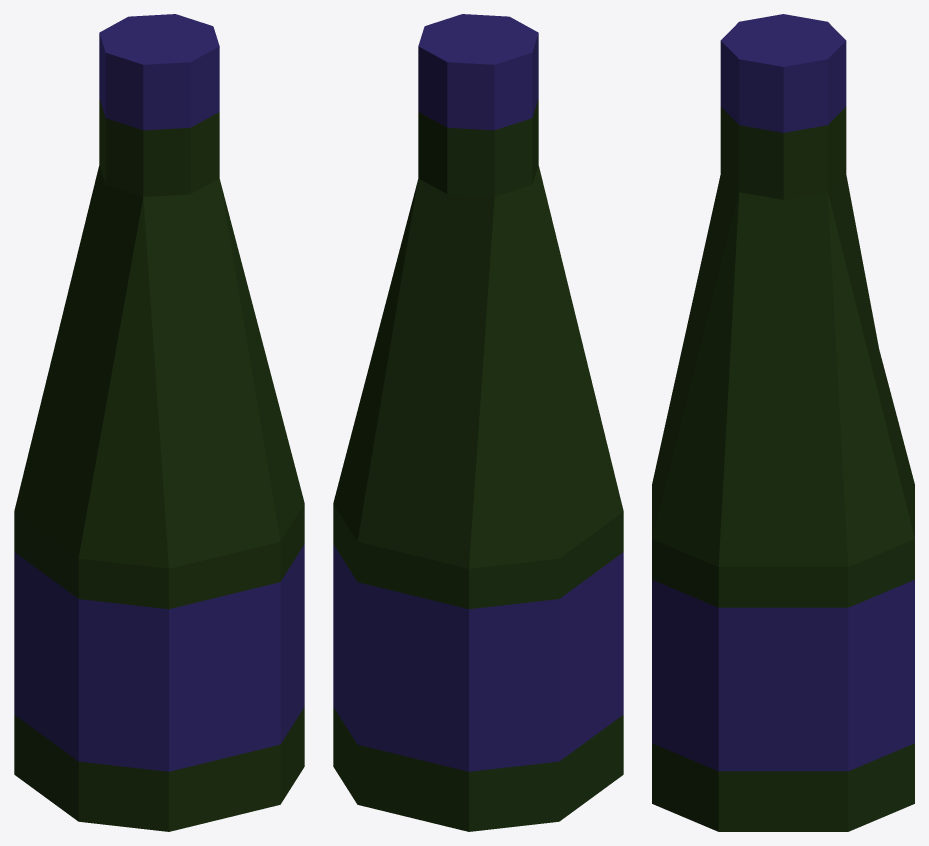
File: джек бухло (жижка зеленая).fbx
3 views of the same model, side by side, from view 1: azimuth 30°, elevation 25°; view 2: azimuth 150°, elevation 25°; view 3: azimuth 270°, elevation 25° (orthographic).
Visible parts, largest first — view 1: Куб; view 2: Куб; view 3: Куб.
Part boxes in pixels (bbox=[...]): Куб: bbox=[14, 14, 304, 831]; Куб: bbox=[333, 14, 623, 831]; Куб: bbox=[652, 14, 914, 831].
Bounding box in the file's own units: 16.19 × 50.04 × 16.19.
